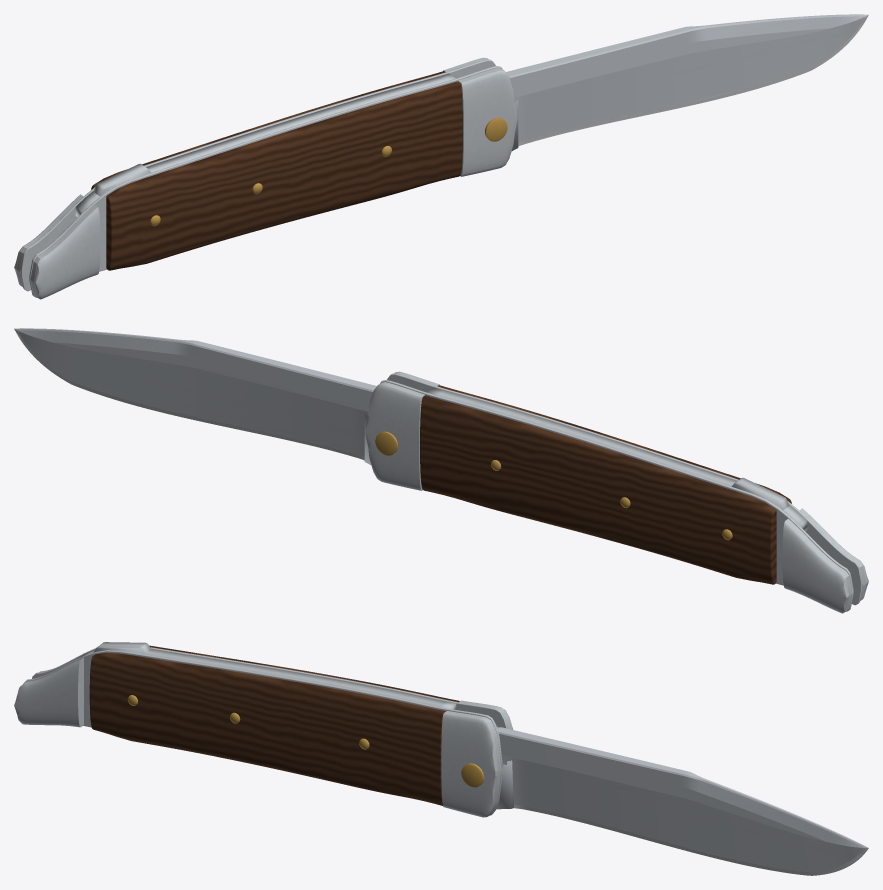
File: navaja.glb
The picture shows the model from 3 angles, top to bottom: view 1: azimuth 30°, elevation 25°; view 2: azimuth 150°, elevation 25°; view 3: azimuth 330°, elevation 25°; orthographic projection.
Visible parts, largest first — view 1: body, blade_pivot_mesh; view 2: body, blade_pivot_mesh; view 3: body, blade_pivot_mesh.
Part boxes in pixels (left/top/right/bottom): body: left=14, top=57, right=517, bottom=299; blade_pivot_mesh: left=506, top=14, right=868, bottom=150; body: left=365, top=371, right=868, bottom=613; blade_pivot_mesh: left=14, top=328, right=376, bottom=464; body: left=14, top=642, right=513, bottom=817; blade_pivot_mesh: left=496, top=726, right=868, bottom=875.
Bounding box in the file's own units: 0.248 × 0.0335 × 0.013.
Materials: 5 (5 with a texture image).
